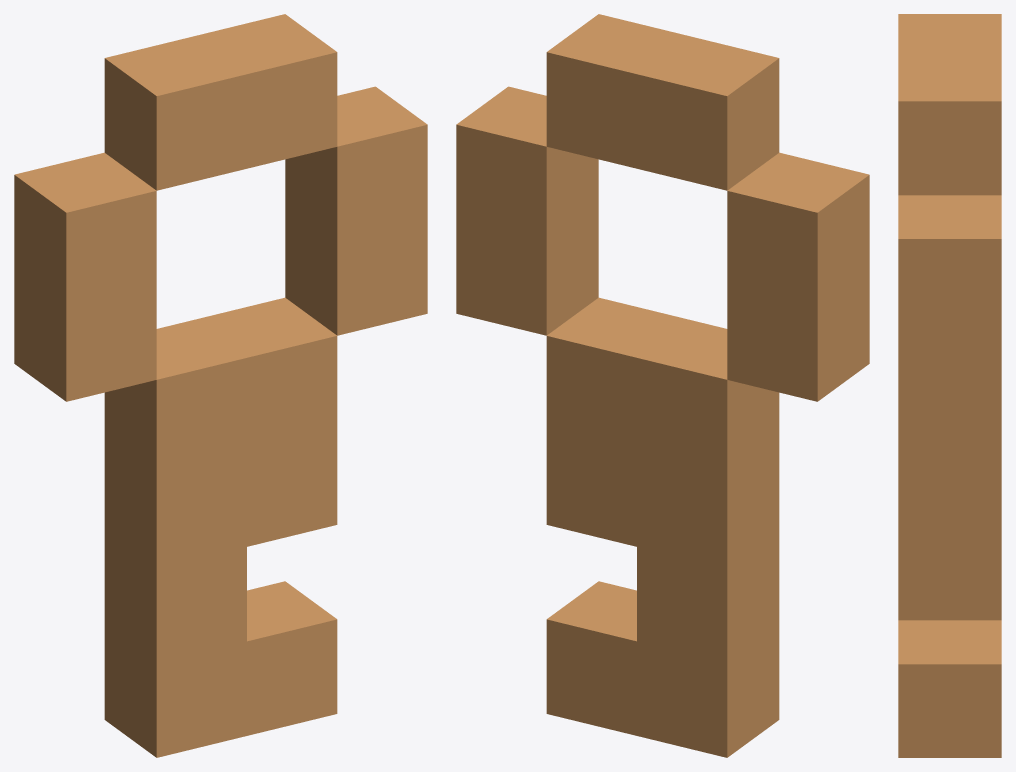
File: KeyGold.obj
3 views of the same model, side by side, from view 1: azimuth 30°, elevation 25°; view 2: azimuth 150°, elevation 25°; view 3: azimuth 270°, elevation 25° (orthographic).
Size of the model in its own units: 4 by 7 by 1.
1 material, 1 textured.
